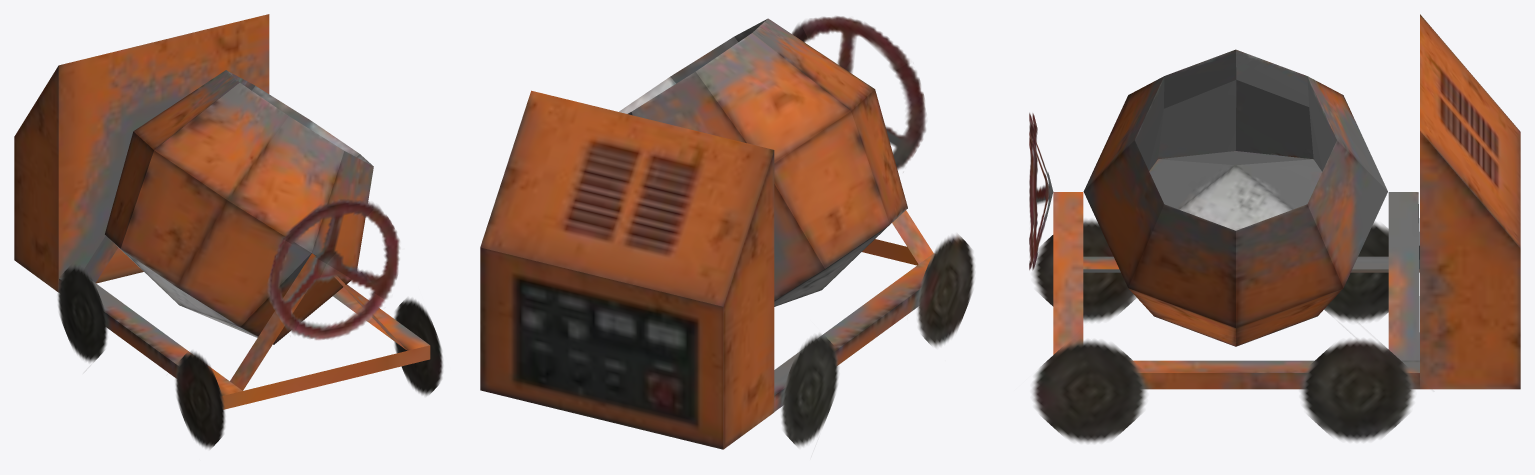
The model's file is ps1_retro_concrete_mixer.glb.
3 renders of one model, left to right at view 1: azimuth 30°, elevation 25°; view 2: azimuth 150°, elevation 25°; view 3: azimuth 270°, elevation 25°, orthographic. The views are drawn at different scales.
Visible parts, largest first — view 1: Body; view 2: Body; view 3: Body.
Boxes of the visible parts, x1,y1,x2,y2 form: Body: (14, 14, 442, 448); Body: (480, 16, 974, 449); Body: (1029, 14, 1520, 443).
Bounding box in the file's own units: 1.05 × 1.28 × 1.69.
1 material, 1 textured.
